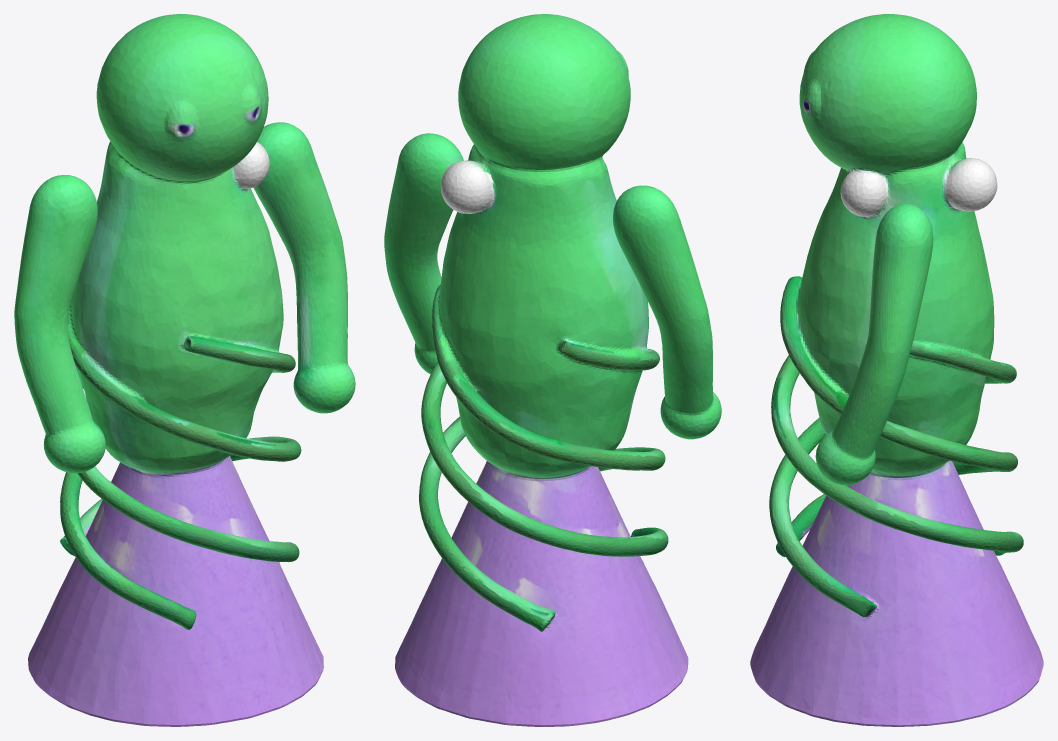
File: creature-080.glb
3 renders of one model, left to right at view 1: azimuth 30°, elevation 25°; view 2: azimuth 150°, elevation 25°; view 3: azimuth 270°, elevation 25°, orthographic.
Visible parts, largest first — view 1: tmpl_03uqtr.ply; view 2: tmpl_03uqtr.ply; view 3: tmpl_03uqtr.ply.
Boxes of the visible parts, x1,y1,x2,y2 form: tmpl_03uqtr.ply: [14, 14, 355, 726]; tmpl_03uqtr.ply: [384, 14, 721, 726]; tmpl_03uqtr.ply: [750, 14, 1043, 726].
Size of the model in its own units: 1.05 by 1.99 by 0.8225.
Materials: 1 (1 with a texture image).
